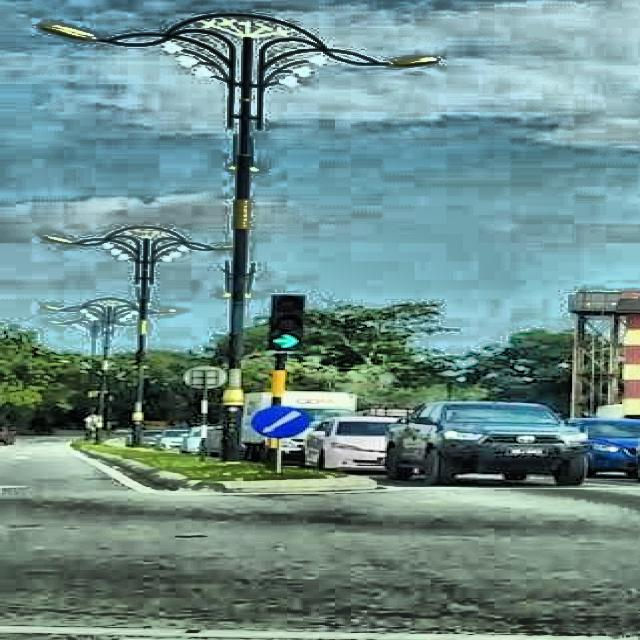green: (265, 294, 305, 350)
